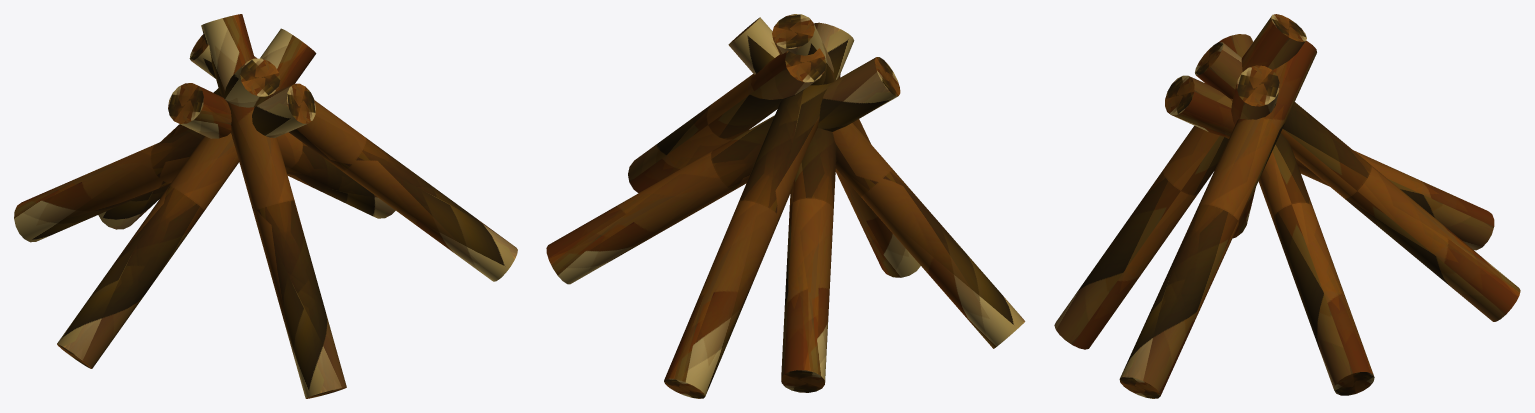
The model's file is fireplace.obj.
3 views of the same model, side by side, from view 1: azimuth 30°, elevation 25°; view 2: azimuth 150°, elevation 25°; view 3: azimuth 270°, elevation 25° (orthographic). The views are drawn at different scales.
Visible parts, largest first — view 1: Cylinder.7; view 2: Cylinder.7; view 3: Cylinder.7.
Part boxes in pixels (x1=…): Cylinder.7: x1=14, y1=14, x2=517, y2=398; Cylinder.7: x1=546, y1=14, x2=1025, y2=398; Cylinder.7: x1=1054, y1=14, x2=1520, y2=398.
Bounding box in the file's own units: 1.92 × 1.4 × 1.8.
